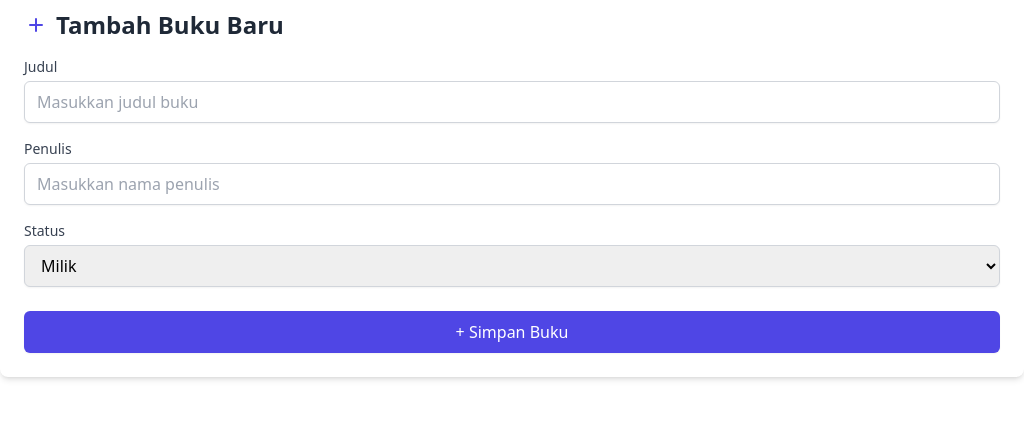
BookForm Component › Form Validation › clears errors when user starts typing
The image size is (1024, 446).
Click the button "+ Simpan Buku" at (512,332), box [24,311,1000,353]
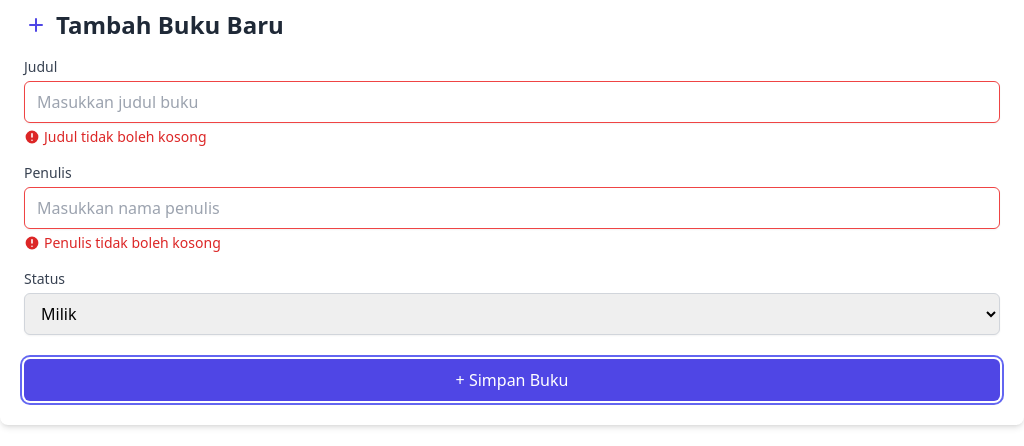
Check: the text "Judul tidak boleh kosong" is shown, box [24,127,206,146]
Type "Test Book" into the field labelled "Judul" at (512,102), box [24,81,1000,123]
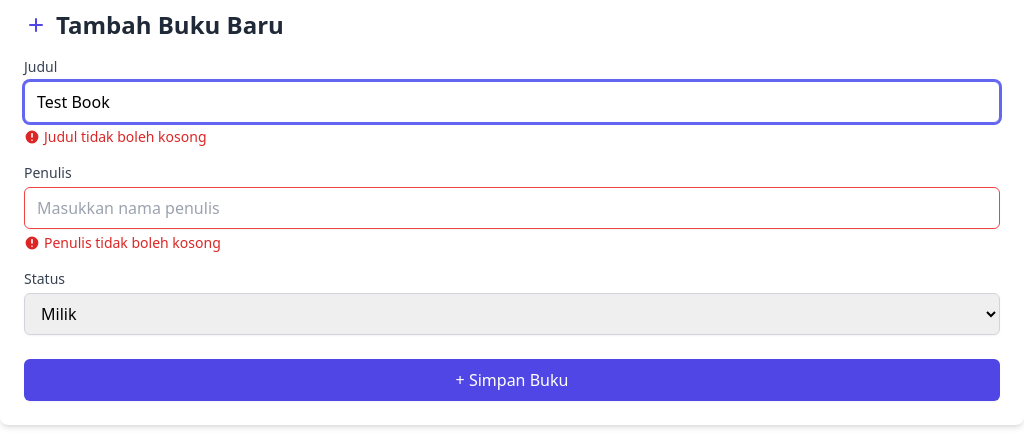
Click the button "+ Simpan Buku" at (512,380), box [24,359,1000,401]
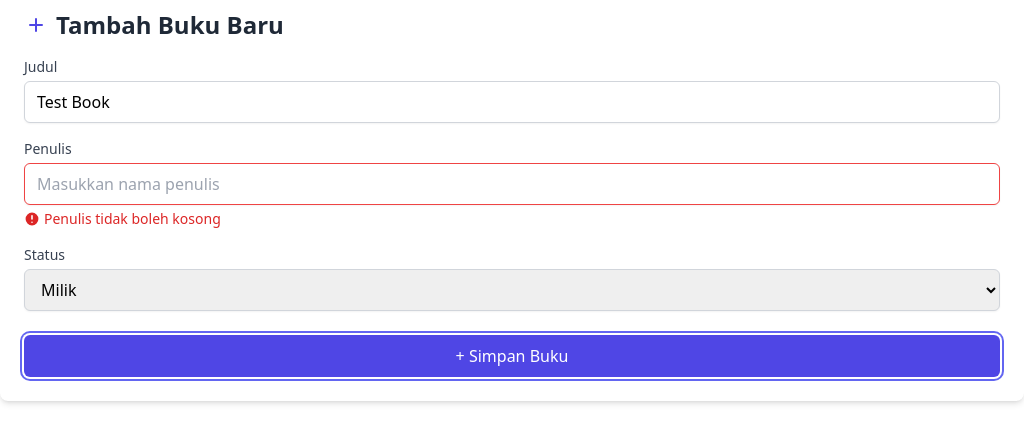
Check: the text "Judul tidak boleh kosong" is gone
